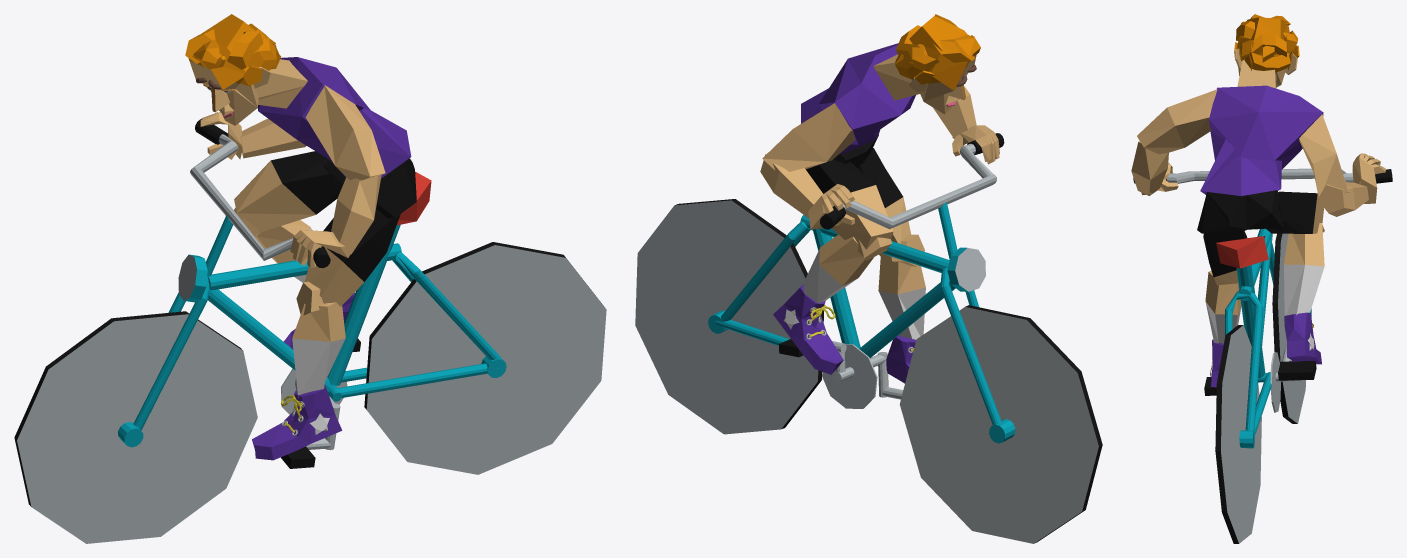
3 renders of one model, left to right at view 1: azimuth 30°, elevation 25°; view 2: azimuth 150°, elevation 25°; view 3: azimuth 270°, elevation 25°, orthographic. The views are drawn at different scales.
Parts seen in each view (by area): view 1: node_MeshObject929416960-PolyPaper12, node_MeshObject-717153984-PolyPaper21, node_MeshObject1448137024-PolyPaper12; view 2: node_MeshObject929416960-PolyPaper12, node_MeshObject-717153984-PolyPaper21, node_MeshObject1448137024-PolyPaper12; view 3: node_MeshObject929416960-PolyPaper12, node_MeshObject-717153984-PolyPaper21, node_MeshObject1448137024-PolyPaper12.
Boxes of the visible parts, box(x1,y1,x2,y2) form: node_MeshObject929416960-PolyPaper12: box(14, 77, 606, 543); node_MeshObject-717153984-PolyPaper21: box(207, 23, 416, 460); node_MeshObject1448137024-PolyPaper12: box(185, 14, 498, 432); node_MeshObject929416960-PolyPaper12: box(635, 44, 1102, 543); node_MeshObject-717153984-PolyPaper21: box(806, 14, 976, 383); node_MeshObject1448137024-PolyPaper12: box(803, 16, 980, 348); node_MeshObject929416960-PolyPaper12: box(1131, 30, 1392, 543); node_MeshObject-717153984-PolyPaper21: box(1157, 20, 1323, 387); node_MeshObject1448137024-PolyPaper12: box(1236, 14, 1324, 378).
Size of the model in its own units: 0.6802 by 0.6188 by 0.3385.
